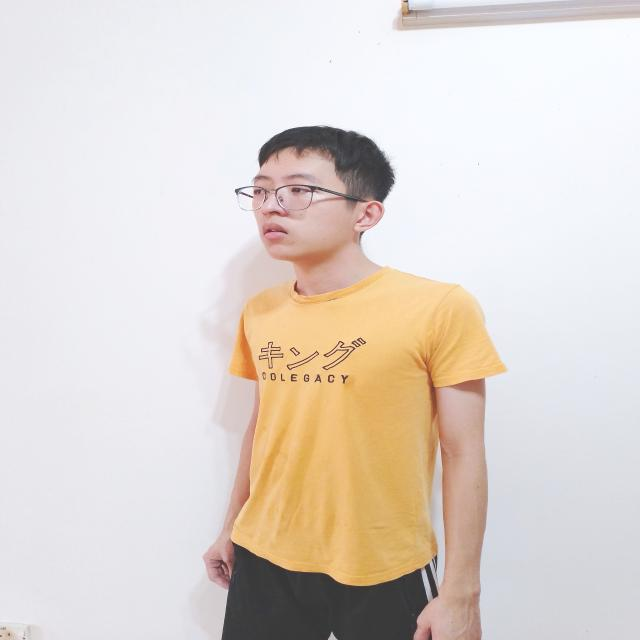person_without_labcoat: (204, 125, 506, 640)
